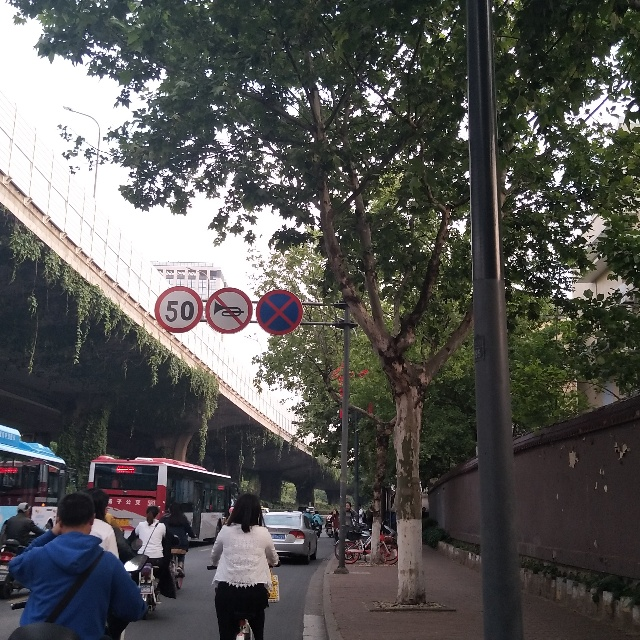nohonk: (204, 287, 253, 333)
stop: (256, 288, 305, 333)
